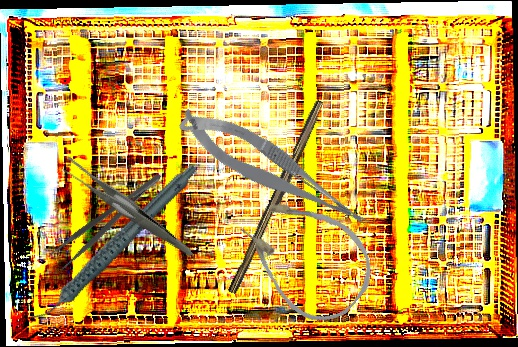Cannula: (222, 173, 391, 339)
Dressing Forceps: (58, 131, 194, 287), (46, 169, 172, 273)
Handpiece: (5, 162, 222, 324)
Micro Scissor: (171, 89, 376, 254)
Scalpel Handle: (227, 98, 328, 297)
